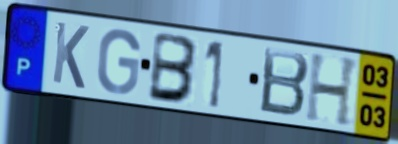1: (202, 39, 226, 111)
B: (146, 29, 201, 106), (257, 45, 311, 120)
G: (95, 27, 143, 97)
H: (303, 51, 362, 130)
K: (49, 18, 91, 92)
